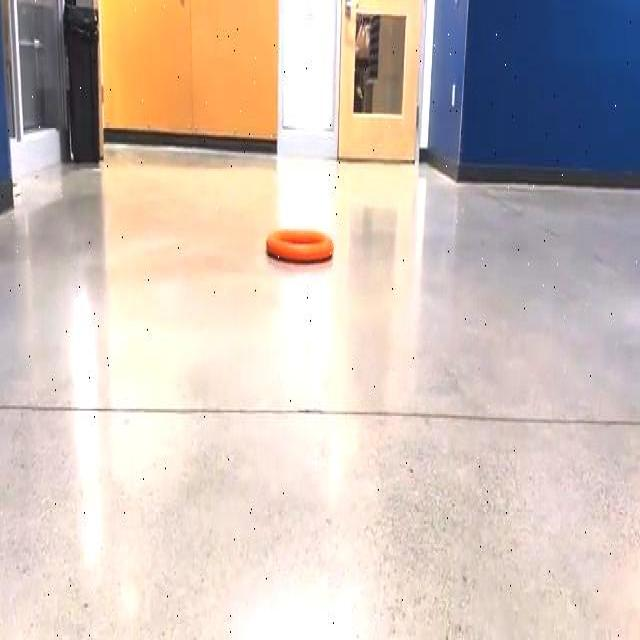note: (266, 229, 334, 261)
